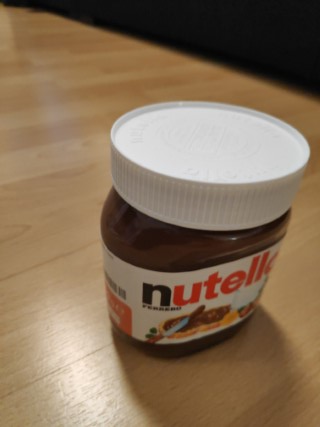nutella: (99, 99, 311, 360)
